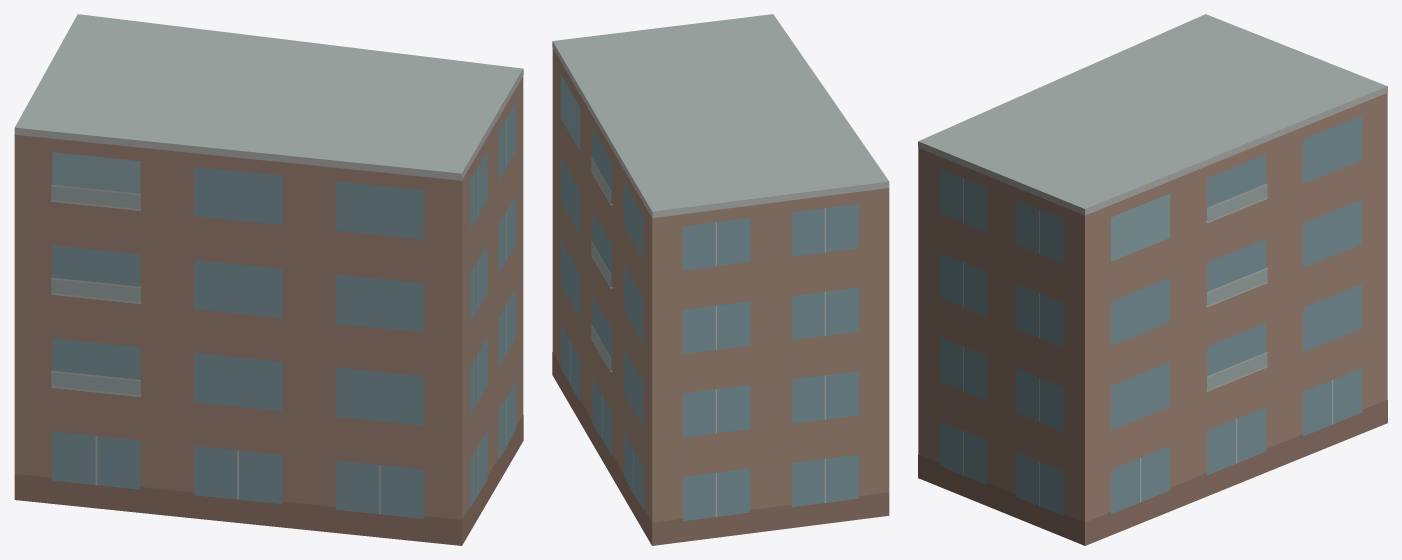
File: survey-upis-32894527.glb
3 views of the same model, side by side, from view 1: azimuth 30°, elevation 25°; view 2: azimuth 150°, elevation 25°; view 3: azimuth 270°, elevation 25° (orthographic). The views are drawn at different scales.
Parts seen in each view (by area): view 1: survey-upis-32894527.tmp; view 2: survey-upis-32894527.tmp; view 3: survey-upis-32894527.tmp.
Boxes of the visible parts, x1,y1,x2,y2 form: survey-upis-32894527.tmp: (14,14,523,545); survey-upis-32894527.tmp: (552,14,889,545); survey-upis-32894527.tmp: (918,14,1387,545).
Bounding box in the file's own units: 15.91 × 12.8 × 16.18.
